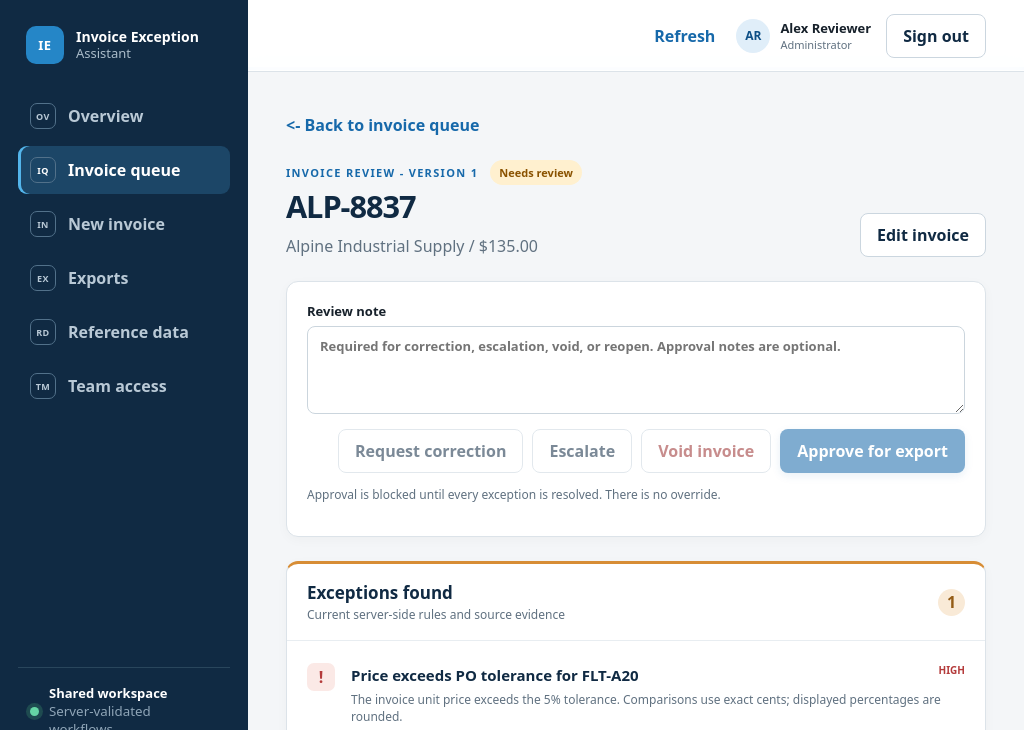
Test: invoice review experience › edits and verifies line prices with an auditable reason
The width and height of the screenshot is (1024, 730).
Click the button "Edit invoice" at (923, 235), box [860, 213, 986, 257]
(page scrolled)
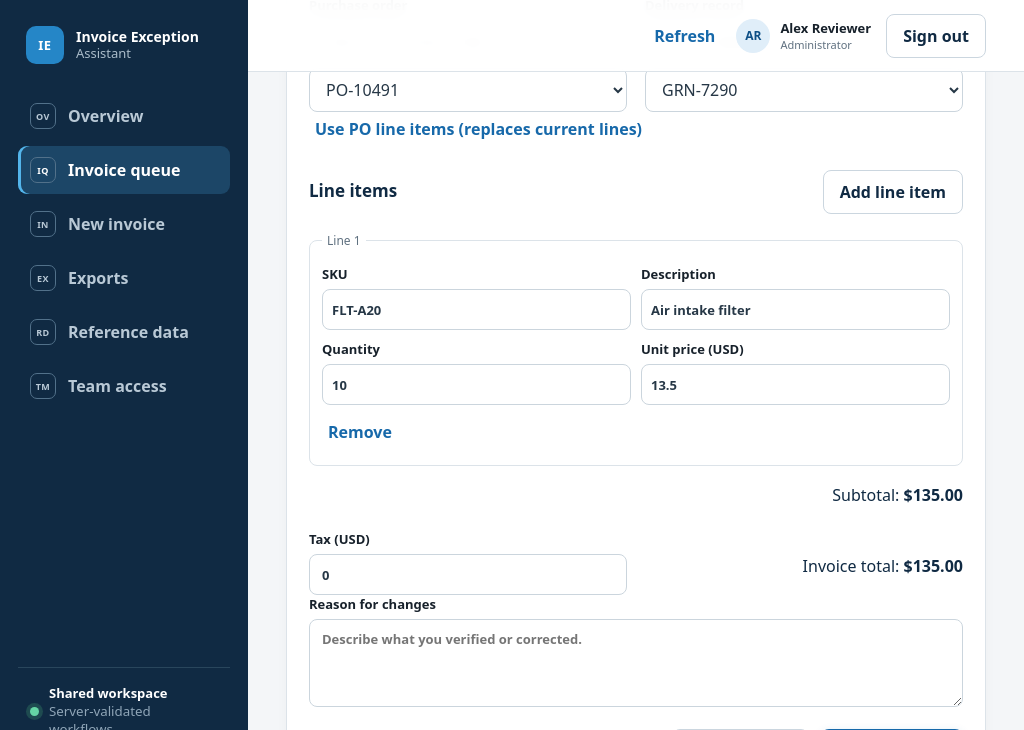
Replace the text in the number field named "Line 1 unit price" with "12" at (796, 385), box [641, 364, 950, 405]
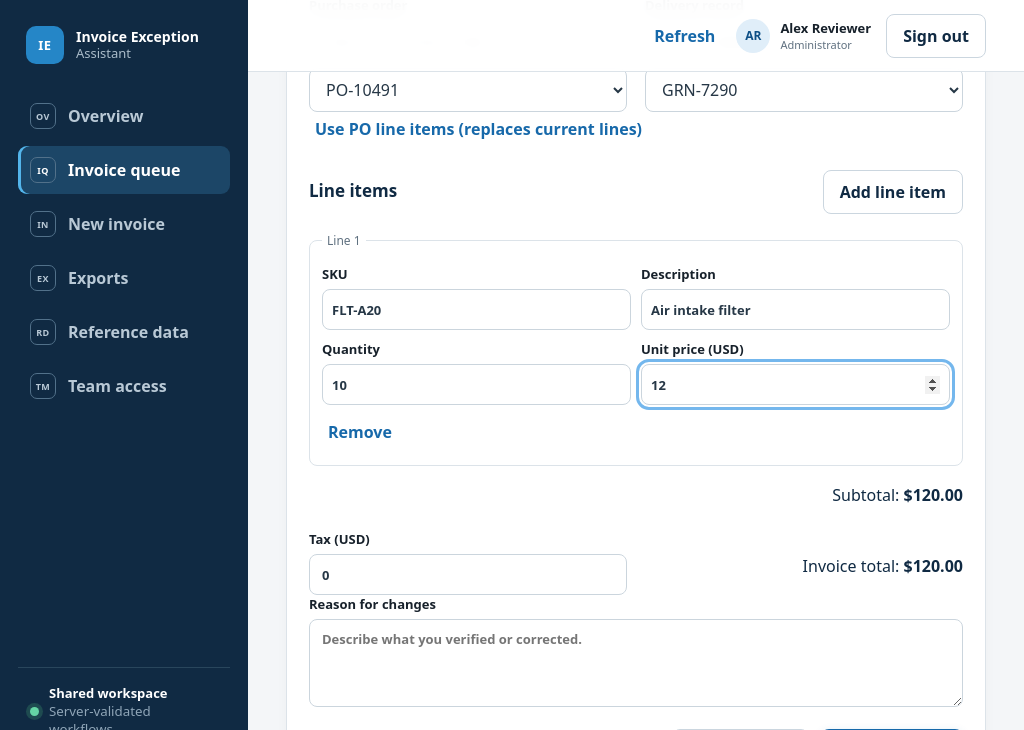
Type "Corrected to source price." into the text box labelled "Reason for changes" at (636, 663), box [309, 619, 963, 707]
(page scrolled)
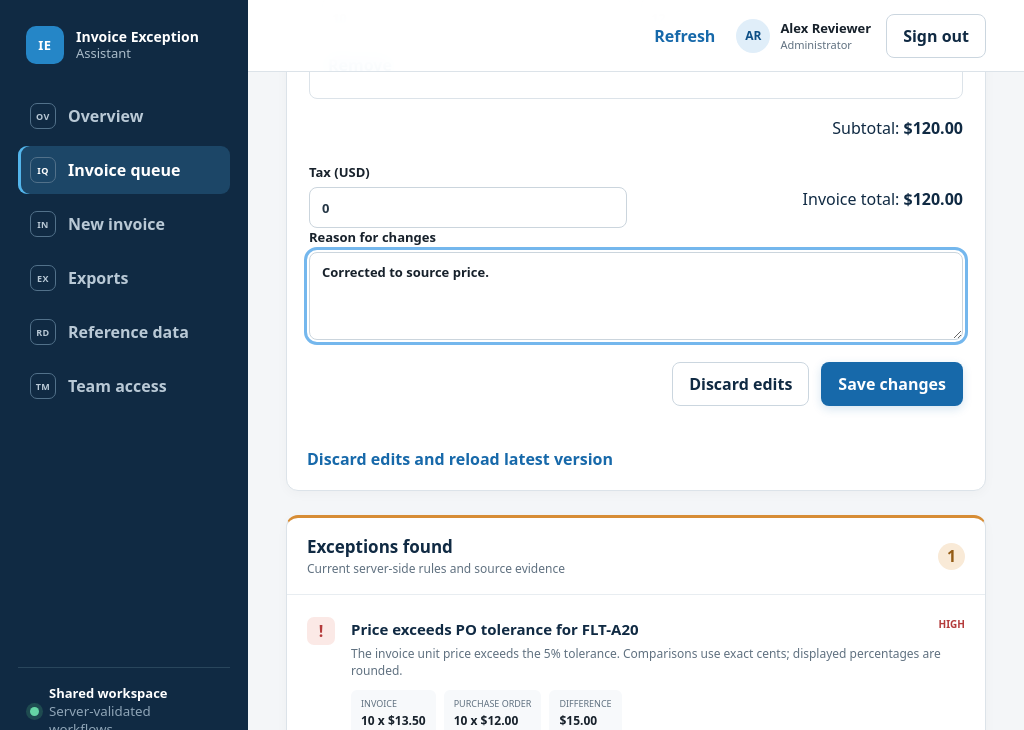
Click the button "Save changes" at (892, 384), box [821, 362, 963, 406]
(page scrolled)
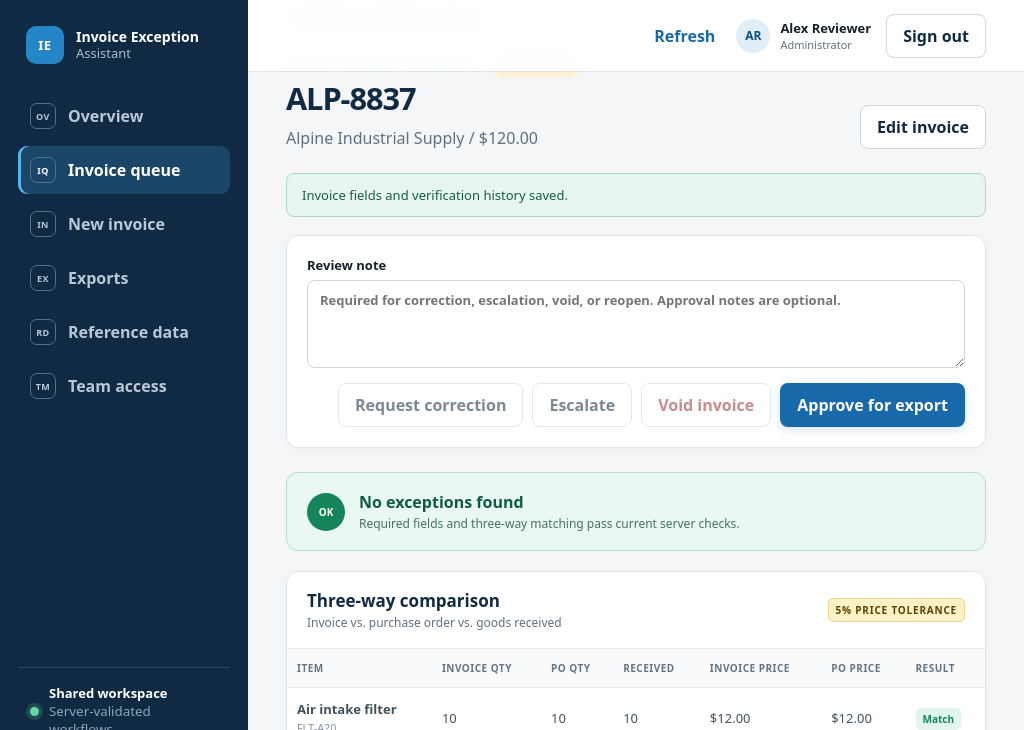
Result: the text "Invoice fields and verification history saved." is shown at [286, 173, 986, 217]
Result: the button "Approve for export" is enabled at [780, 383, 965, 427]
